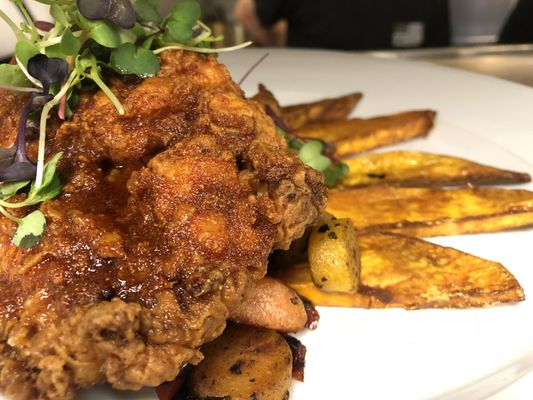pizza: (446, 0, 520, 45)
